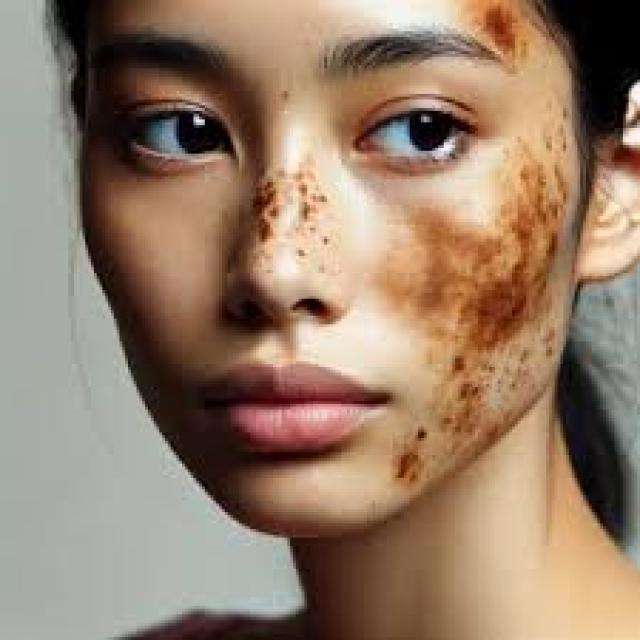pigmentation: (440, 152, 561, 368), (258, 173, 323, 235)
